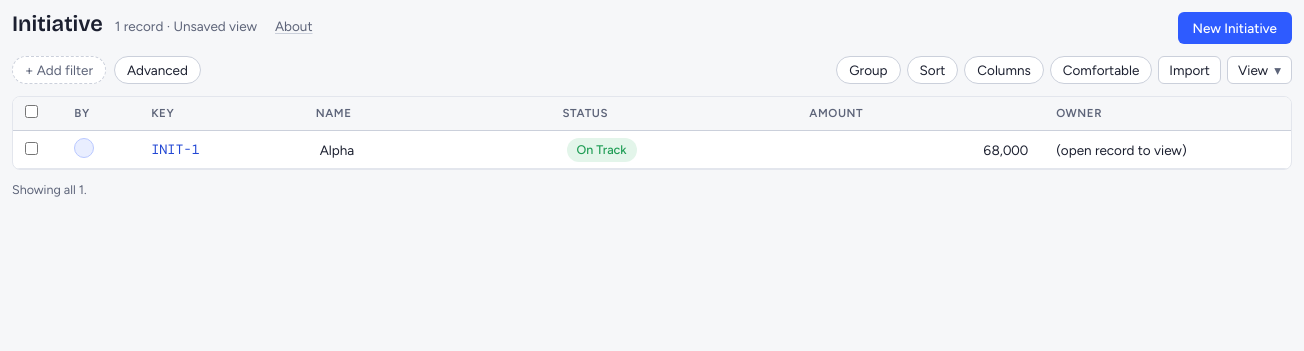
Test: an incomplete condition issues no request — the chips › holds while a `between` has only one side
Expected: the button with aria-label "Edit Name for INIT-1" is shown, x1=316 y1=139 x2=538 y2=161
Click the button "+ Add filter": click(59, 70) x1=13 y1=57 x2=105 y2=83
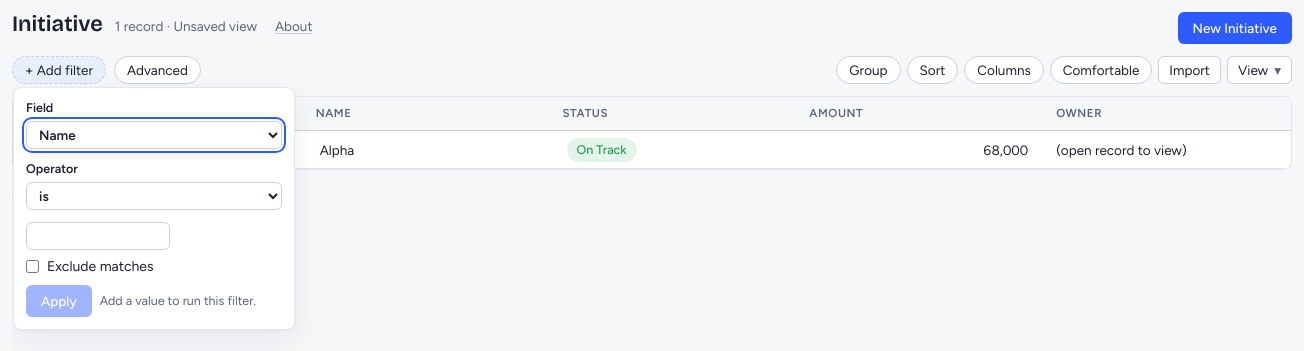
Select "Amount" in the dropdown labelled "Field": (154, 135) x1=26 y1=121 x2=282 y2=149
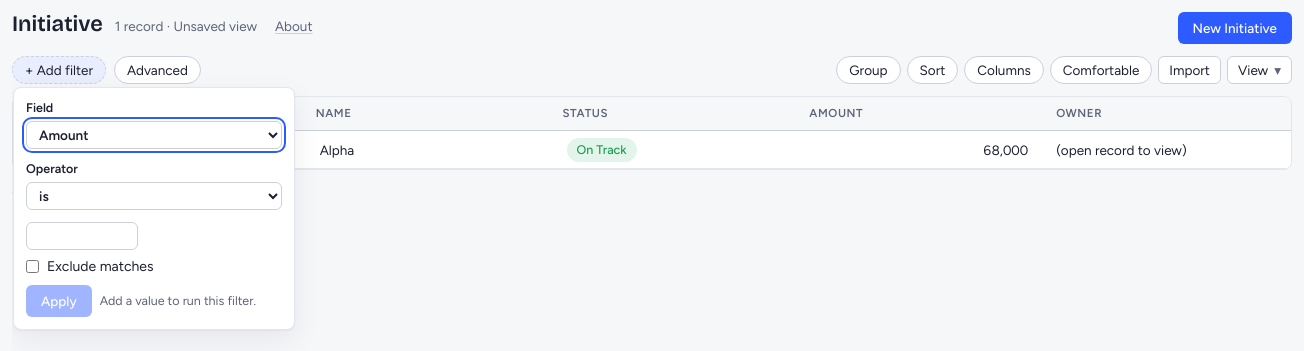
Select "is between" in the dropdown labelled "Operator": (154, 196) x1=26 y1=182 x2=282 y2=210
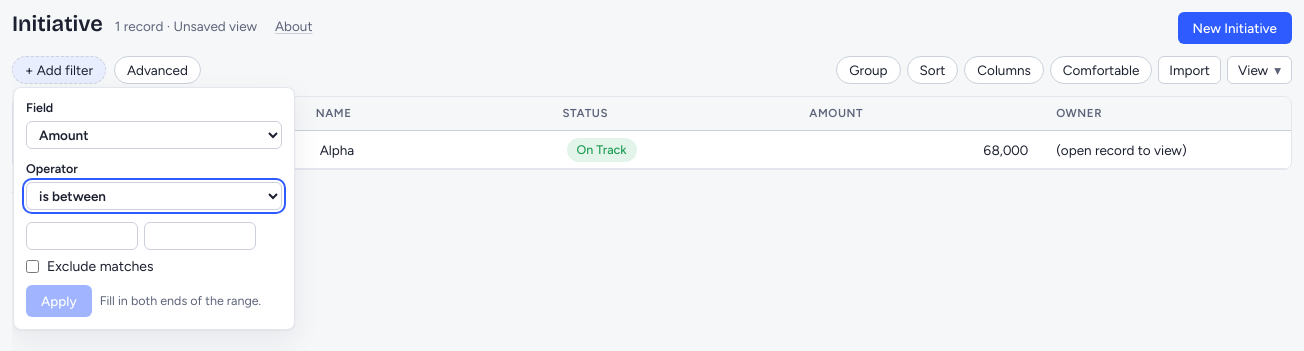
In the number field named "Amount lower bound": (82, 236) x1=26 y1=222 x2=138 y2=250, type "1000"
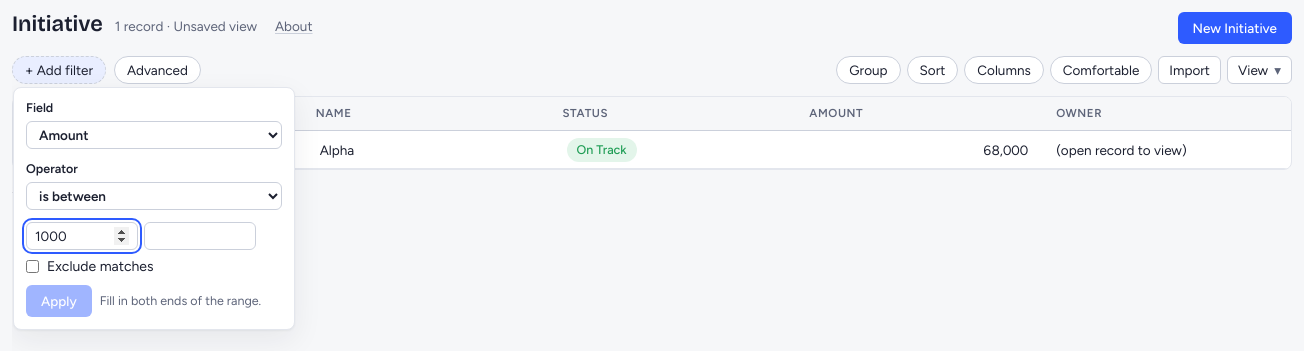
Press Escape
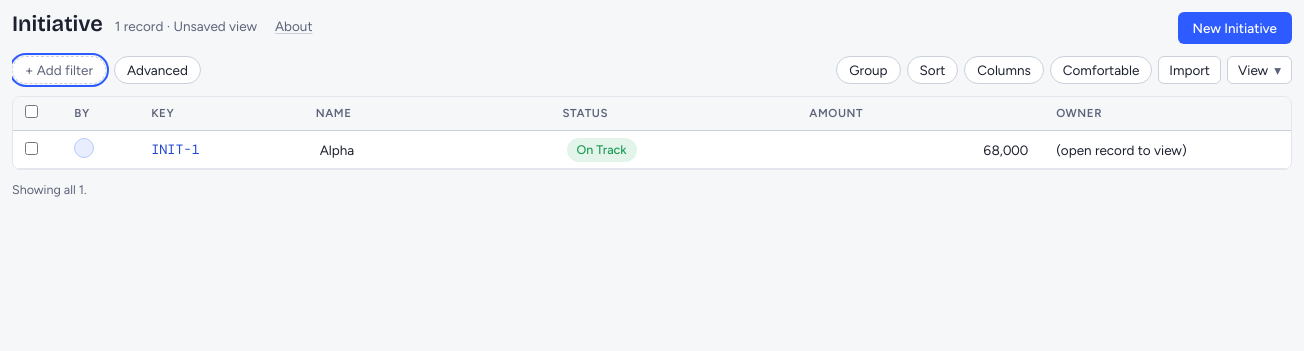
Expected: the element with test id "condition-popover" is gone
